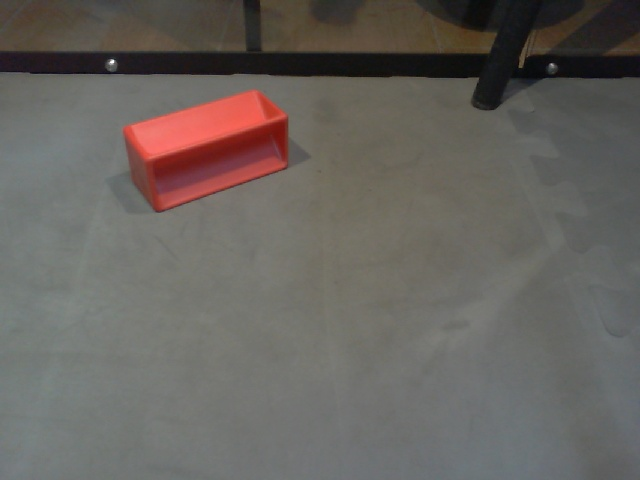RedSample: (121, 87, 291, 215)
